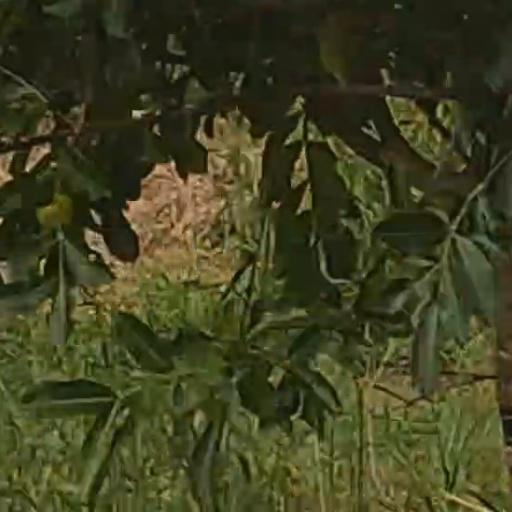acerola: (38, 197, 73, 225)
